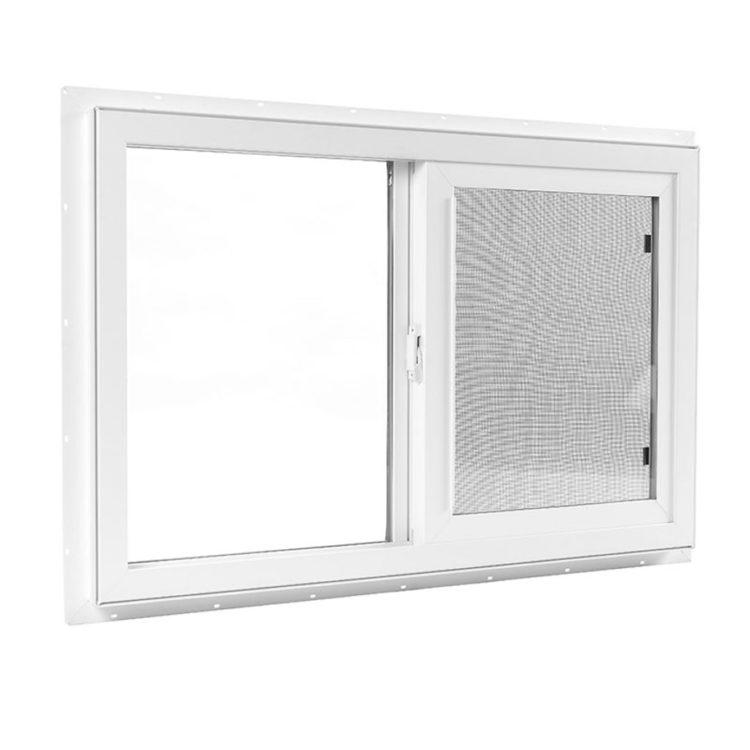PVC: (59, 82, 700, 629)
